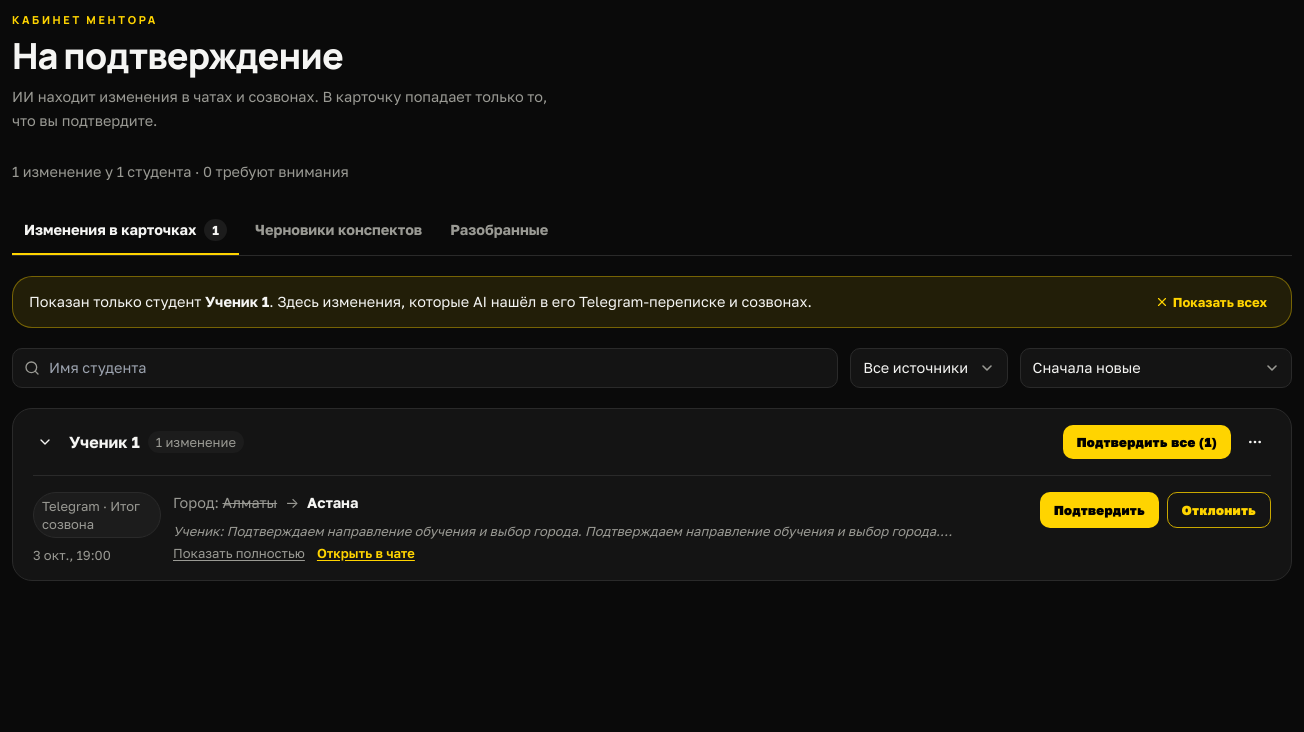
Test case: ?student= из сигнала показывает только этого студента, даже не из Моих, с меткой Telegram
expect the link "Ученик 1" is shown: met, box [69,430,140,454]
expect the link "Ученик 0" is not shown: met
Click the button "Показать всех": click(1211, 302) [1147,288,1275,314]
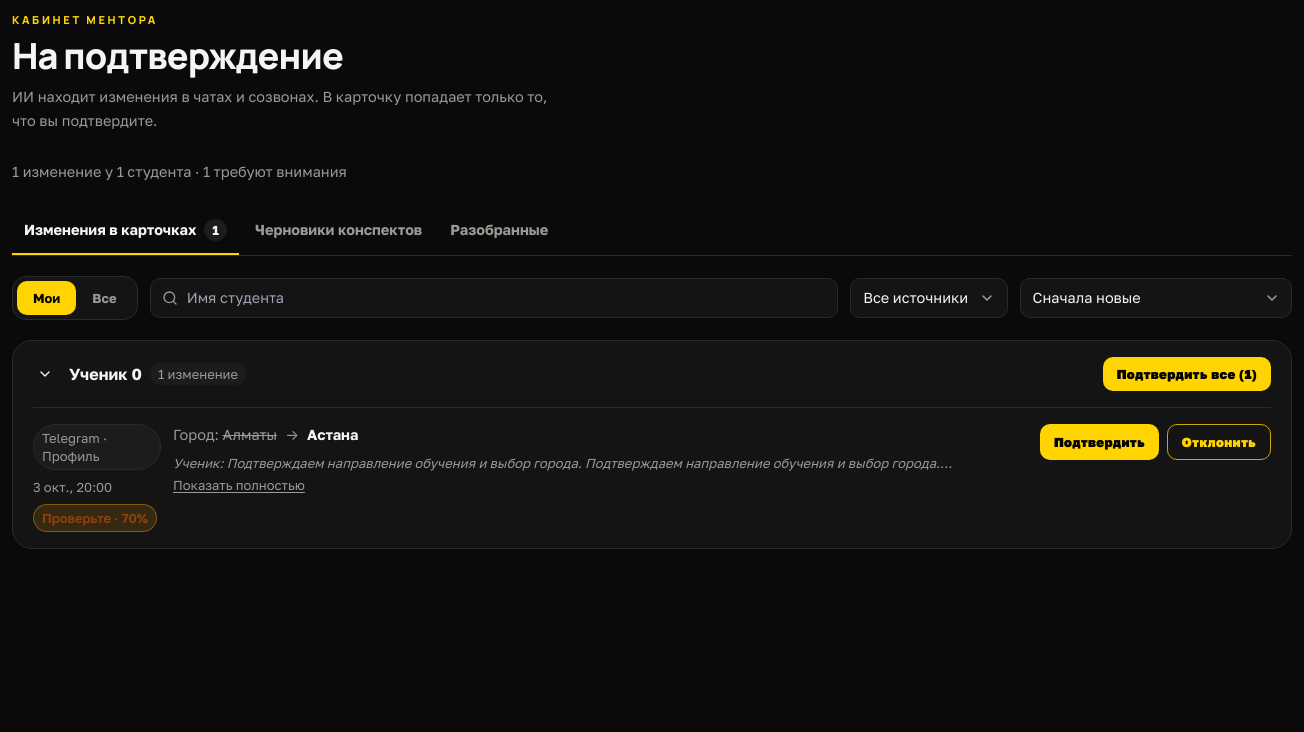
expect the link "Ученик 0" is shown: met, box [69,362,142,386]
